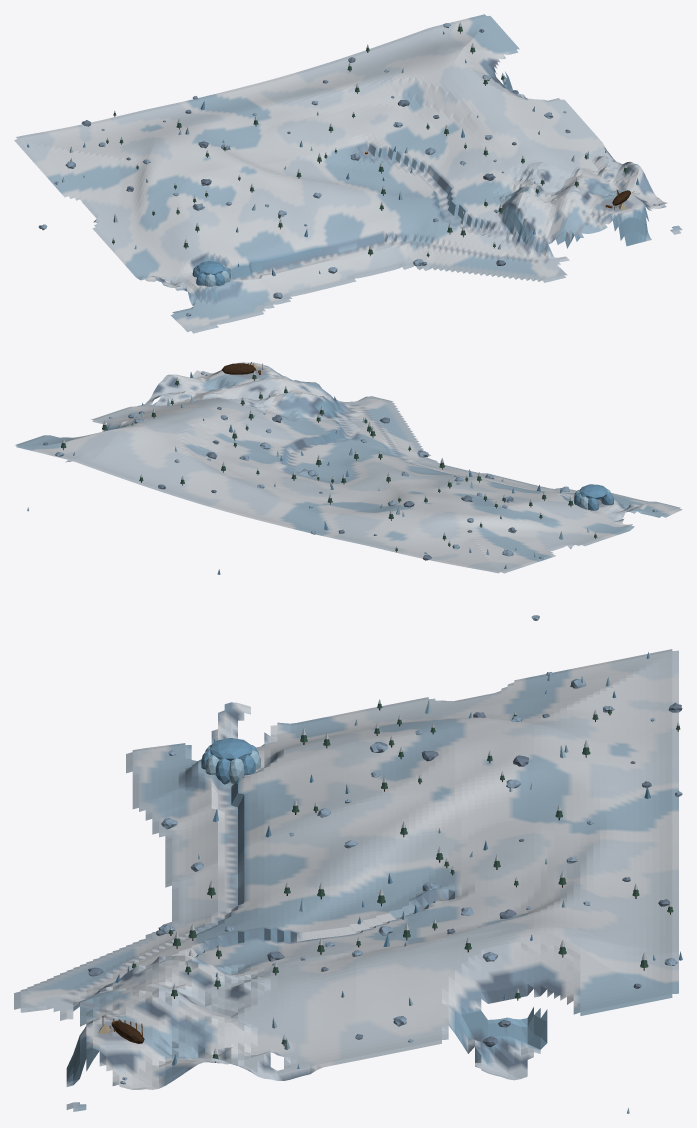
Rendered from frost_isl_frozen_wreck.glb.
3 views of the same model, one above another, from view 1: azimuth 30°, elevation 25°; view 2: azimuth 150°, elevation 25°; view 3: azimuth 270°, elevation 25° (orthographic). The views are drawn at different scales.
Parts seen in each view (by area): view 1: geometry_0; view 2: geometry_0; view 3: geometry_0.
Boxes of the visible parts, bbox=[...] form: geometry_0: bbox=[14, 14, 682, 333]; geometry_0: bbox=[15, 362, 682, 620]; geometry_0: bbox=[14, 649, 682, 1113].
Bounding box in the file's own units: 263 × 45.46 × 203.
